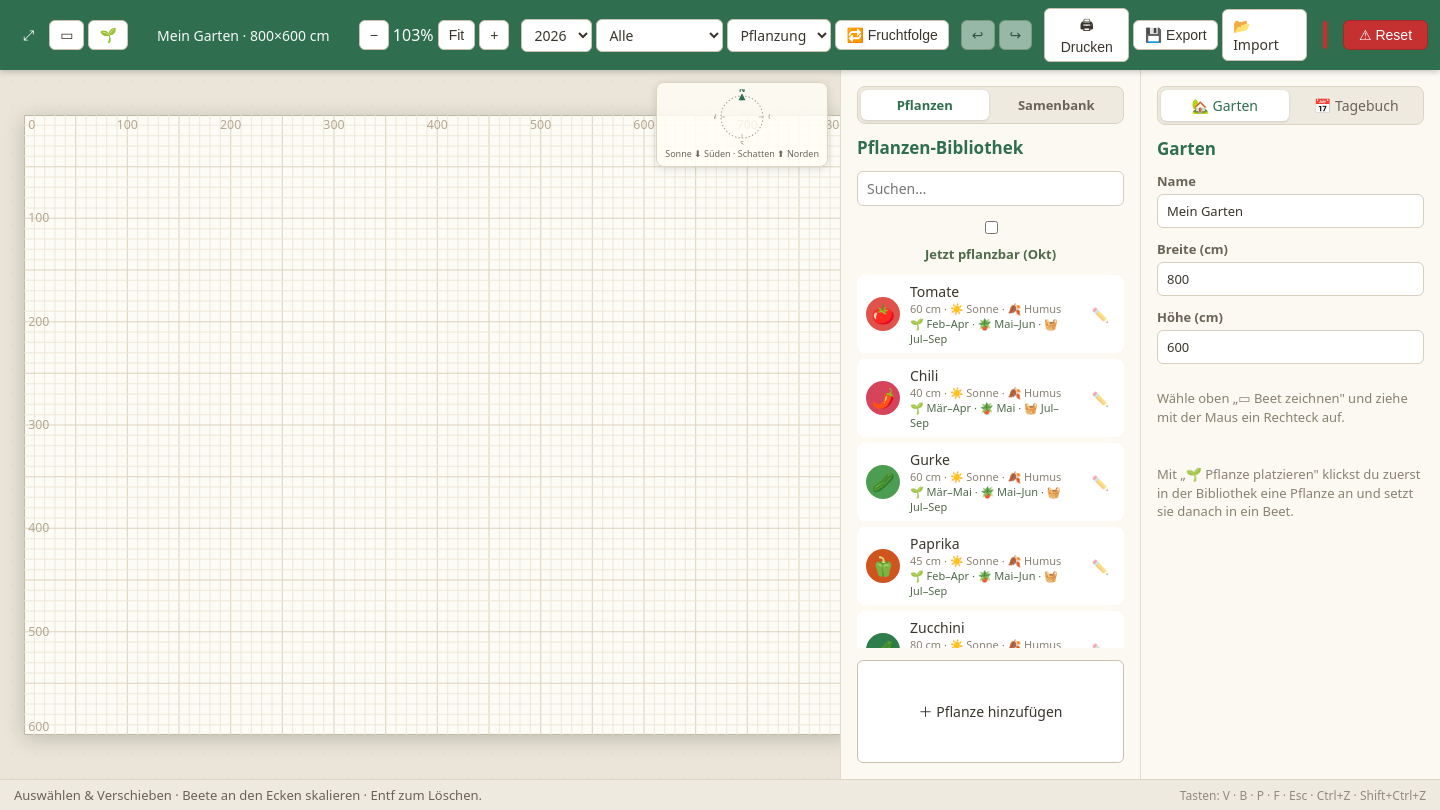
Test case: Issue #1 – Pflanze auswählen aktiviert das Pflanz-Werkzeug › schaltet beim Klick auf eine Pflanze ins Pflanz-Tool und zeigt den Platzier-Hinweis
The image size is (1440, 810).
What coordinates should you click on to do the following:
click the button with aria-label "Tomate — Platzieren"
I would click on:
 (990, 314)
Its box is x1=857 y1=275 x2=1124 y2=353.
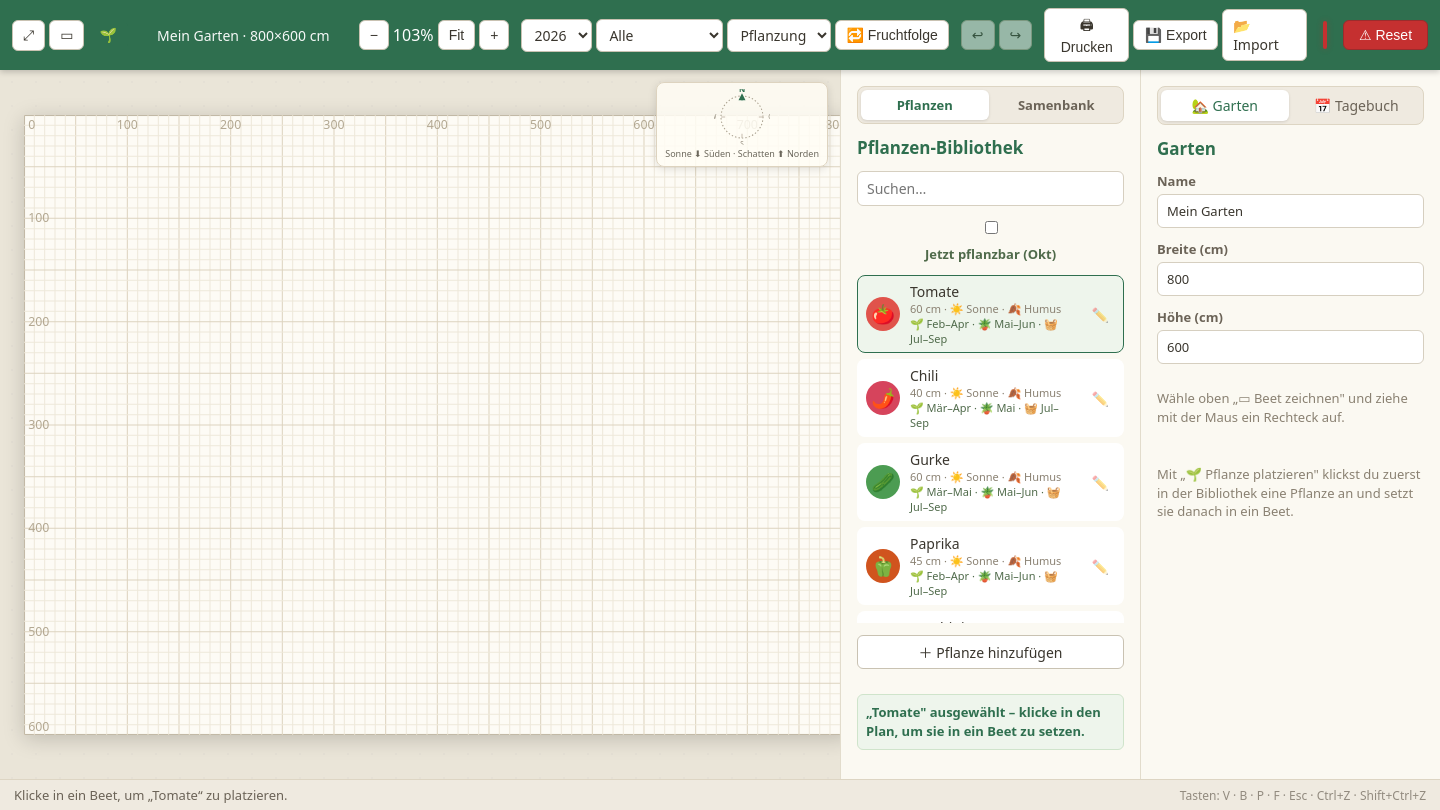
Expected: the text "Klicke in ein Beet, um „Tomate“ zu platzieren." is shown, x1=14 y1=786 x2=288 y2=804
